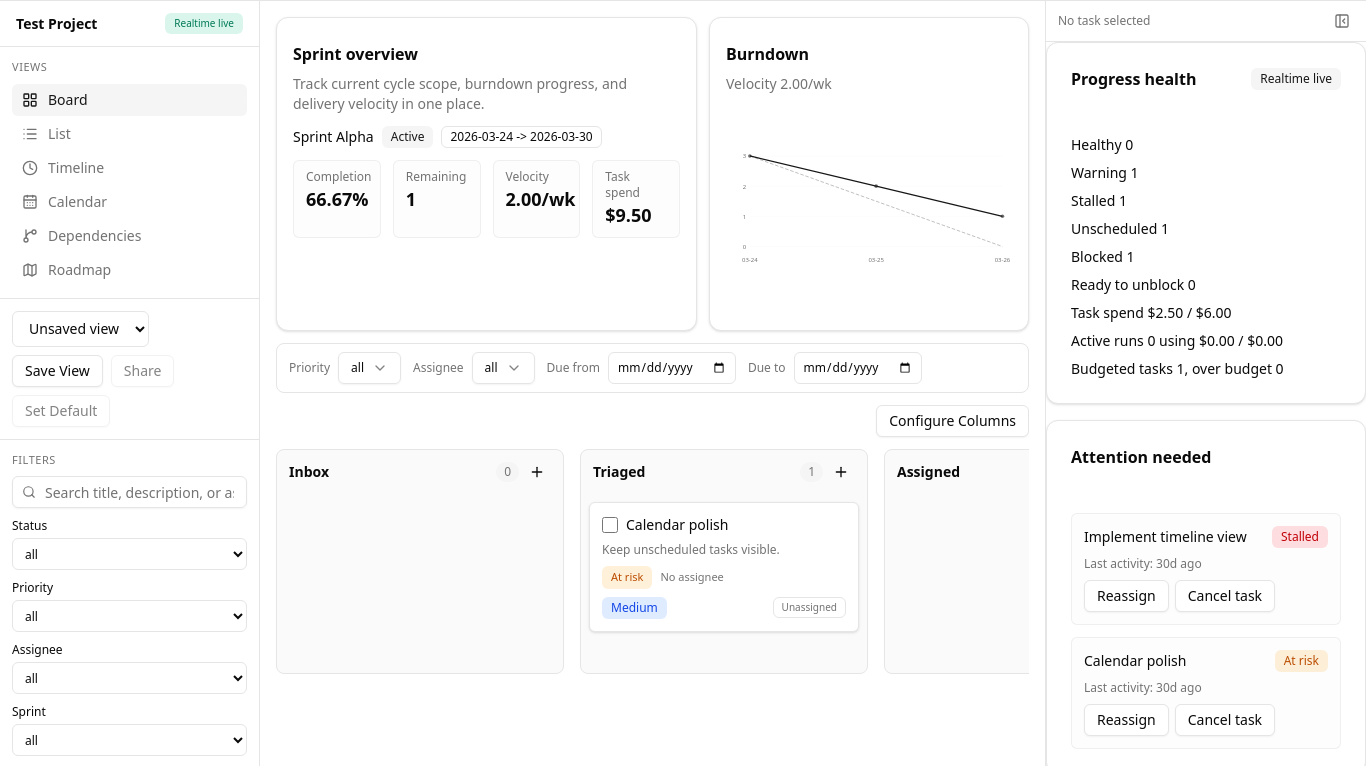
Scenario: ProjectTaskWorkspace › lets the user type a search filter and clear it to restore all tasks
Step 1. Type "calendar" into the field named "Search tasks" → (130,492), box [12,476,247,508]
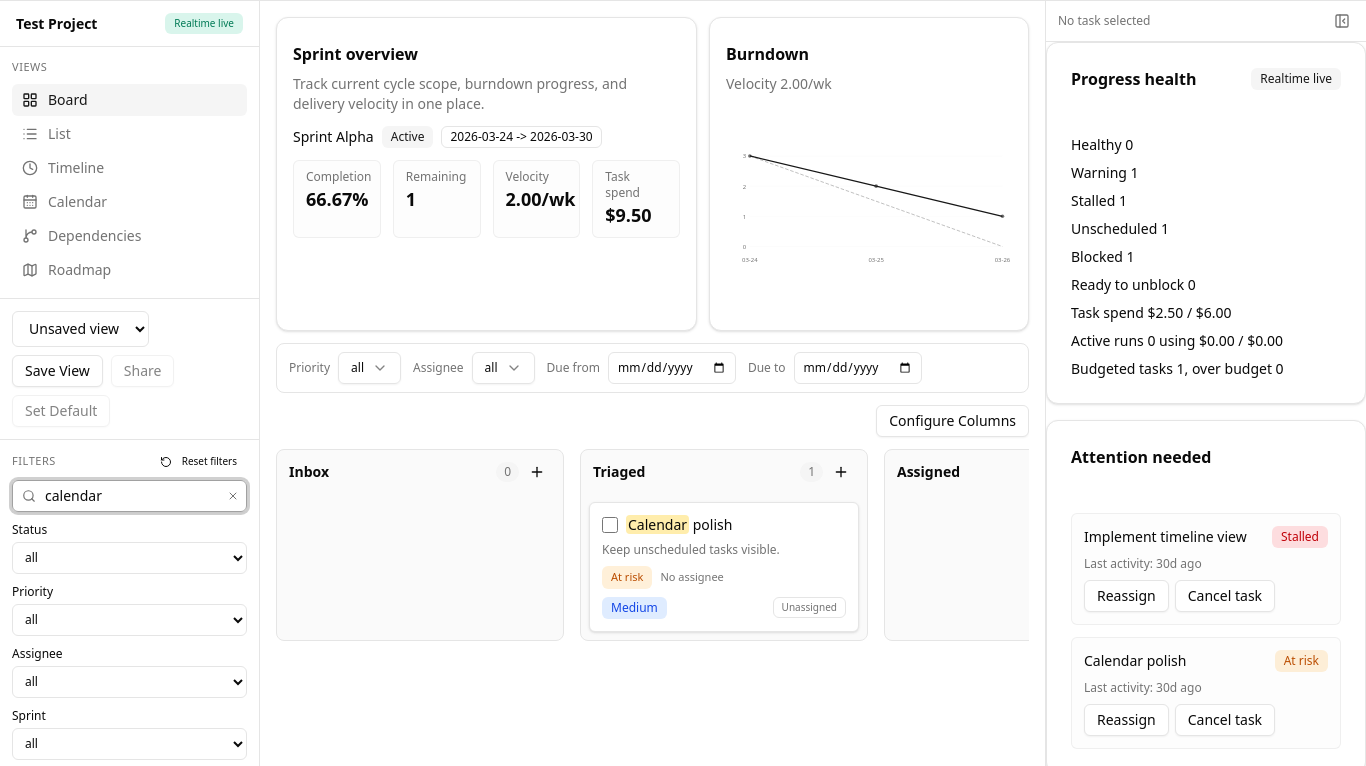
Check: the text "Calendar polish" is shown, box [1084,651,1186,671]
Step 2. Click the button "Reset filters" → (198,462), box [150,452,247,472]
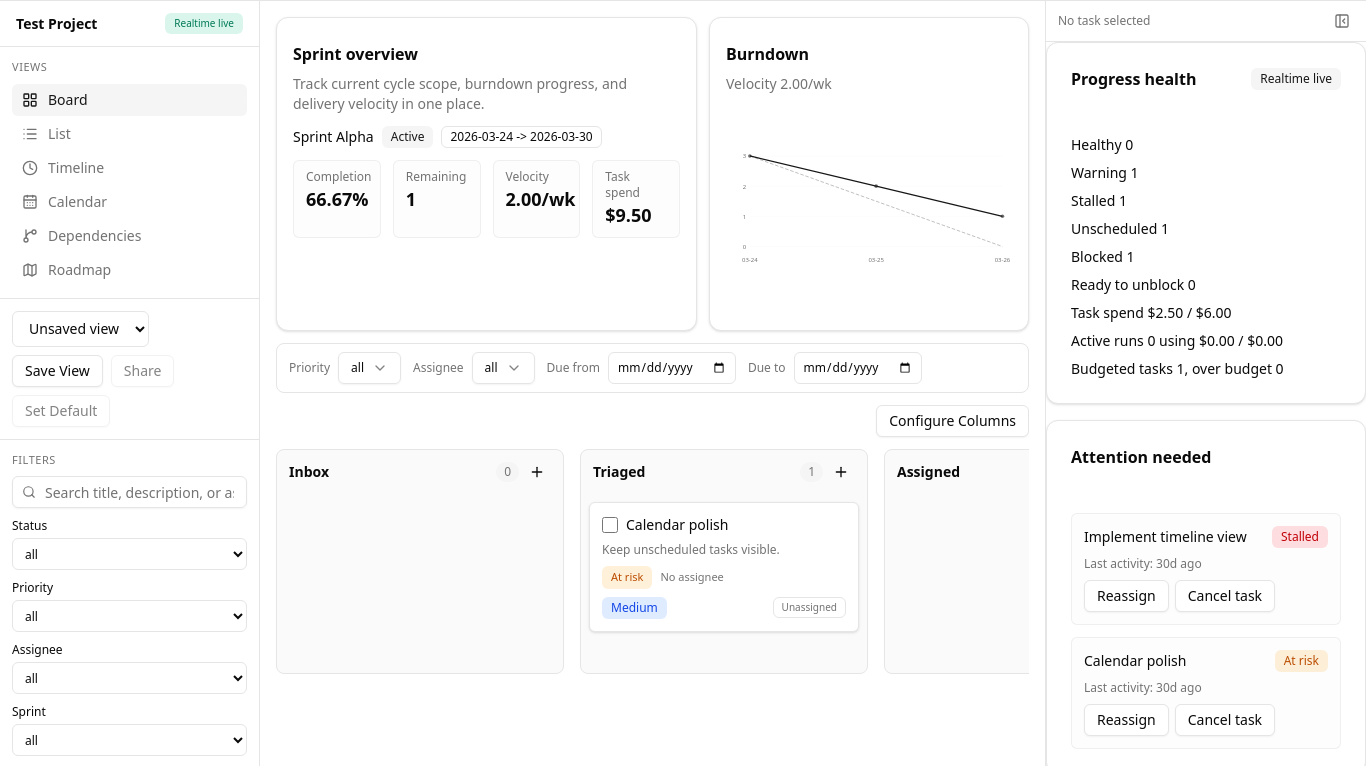
Check: the text "Calendar polish" below "Triaged" is shown, box [626,515,728,534]
